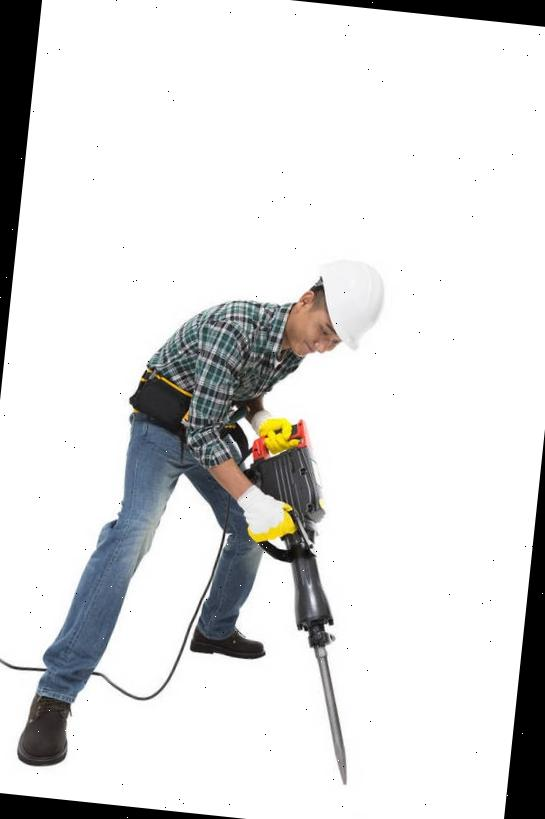helmet: (308, 244, 392, 348)
no_wear: (134, 294, 288, 421)
